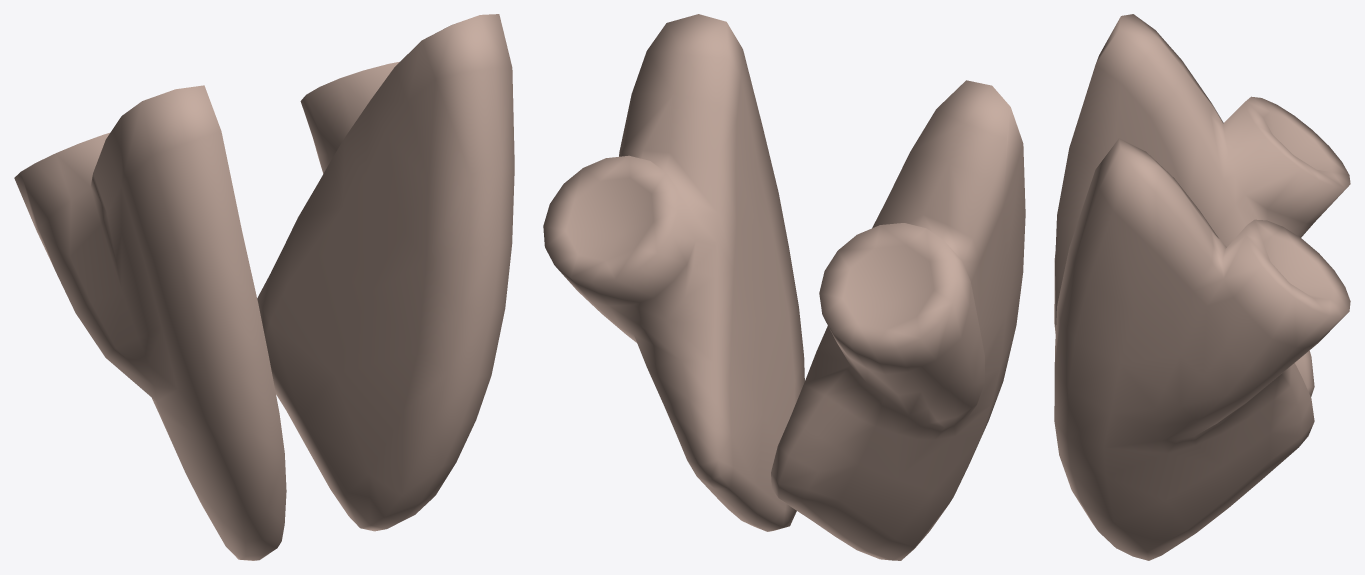
The model's file is S01_Bird02_L1_Tail.glb.
3 renders of one model, left to right at view 1: azimuth 30°, elevation 25°; view 2: azimuth 150°, elevation 25°; view 3: azimuth 270°, elevation 25°, orthographic. The views are drawn at different scales.
Parts seen in each view (by area): view 1: S01_Bird02_L1_Tail__Tail_M__lod0; view 2: S01_Bird02_L1_Tail__Tail_M__lod0; view 3: S01_Bird02_L1_Tail__Tail_M__lod0.
Boxes of the visible parts, box(x1,y1,x2,y2) form: S01_Bird02_L1_Tail__Tail_M__lod0: box(14, 14, 514, 560); S01_Bird02_L1_Tail__Tail_M__lod0: box(543, 14, 1025, 560); S01_Bird02_L1_Tail__Tail_M__lod0: box(1054, 14, 1350, 560).
Size of what is drawn, in the model's own units: 36.52 by 42.01 by 25.1.
